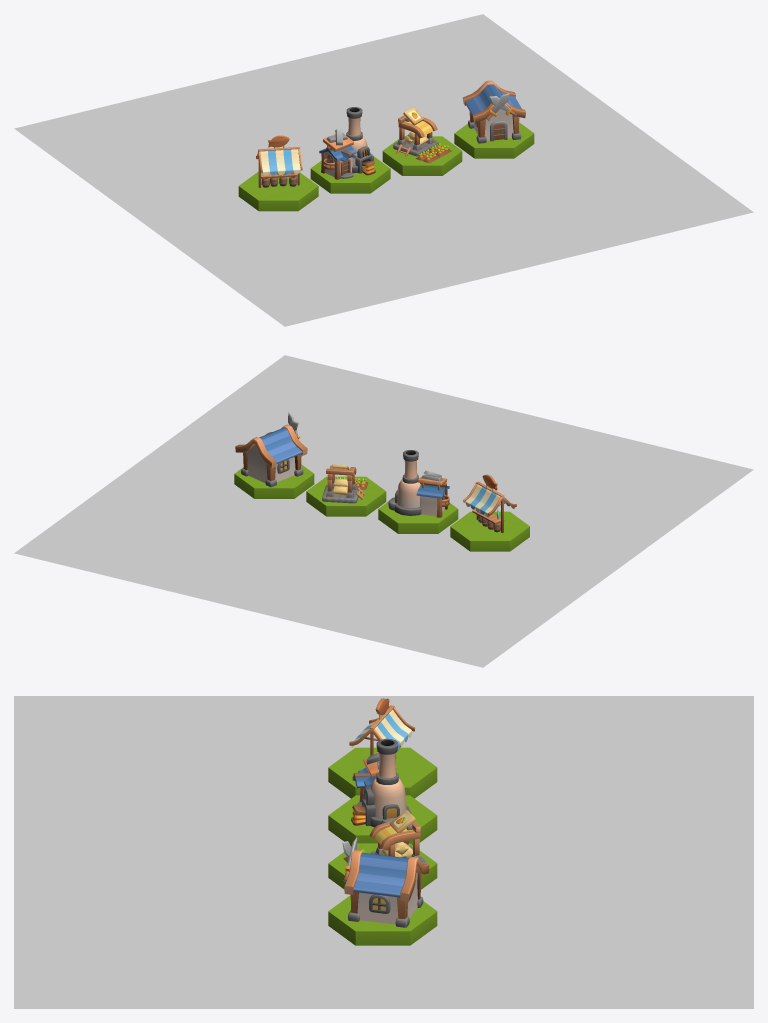
File: small_houses.glb
The picture shows the model from 3 angles, top to bottom: view 1: azimuth 30°, elevation 25°; view 2: azimuth 150°, elevation 25°; view 3: azimuth 270°, elevation 25°; orthographic projection. The views are drawn at different scales.
Visible parts, largest first — view 1: Plane, Barracks, ForgeHouse, Circle_Material_0.003, FishermanMarket, FarmCarrot, Circle_Material_0.001, Circle_Material_0, Circle_Material_0.002; view 2: Plane, Barracks, ForgeHouse, Circle_Material_0.003, Circle_Material_0.001, FishermanMarket, Circle_Material_0.002, Circle_Material_0, FarmCarrot; view 3: Plane, Barracks, ForgeHouse, Circle_Material_0, Circle_Material_0.003, Circle_Material_0.002, FarmCarrot, FishermanMarket, Circle_Material_0.001.
Part boxes in pixels (x1,y1,x2,y2): Plane: (14,14,753,326); Barracks: (462,80,525,143); ForgeHouse: (319,107,375,179); Circle_Material_0.003: (238,171,318,211); FishermanMarket: (256,135,302,187); FarmCarrot: (393,107,451,163); Circle_Material_0.001: (382,136,462,175); Circle_Material_0: (454,122,534,158); Circle_Material_0.002: (310,156,390,193); Plane: (14,355,753,667); Barracks: (235,412,307,487); ForgeHouse: (388,450,449,517); Circle_Material_0.003: (450,511,529,551); Circle_Material_0.001: (306,476,386,516); FishermanMarket: (463,474,516,532); Circle_Material_0.002: (378,497,458,533); Circle_Material_0: (234,464,314,498); FarmCarrot: (322,464,368,503); Plane: (14,696,753,1008); Barracks: (342,837,429,927); ForgeHouse: (351,738,411,827); Circle_Material_0: (328,895,437,945); Circle_Material_0.003: (328,747,437,798); Circle_Material_0.002: (328,795,437,846); FarmCarrot: (343,810,426,863); FishermanMarket: (349,698,415,758); Circle_Material_0.001: (328,843,437,889).
Size of the model in its own units: 55.33 by 7.74 by 55.33.
1 material, 1 textured.
